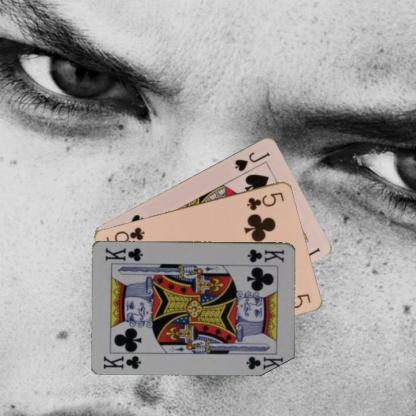5c: (244, 189, 286, 211)
Js: (232, 149, 272, 173)
Kc: (101, 352, 142, 370), (245, 246, 285, 264)
